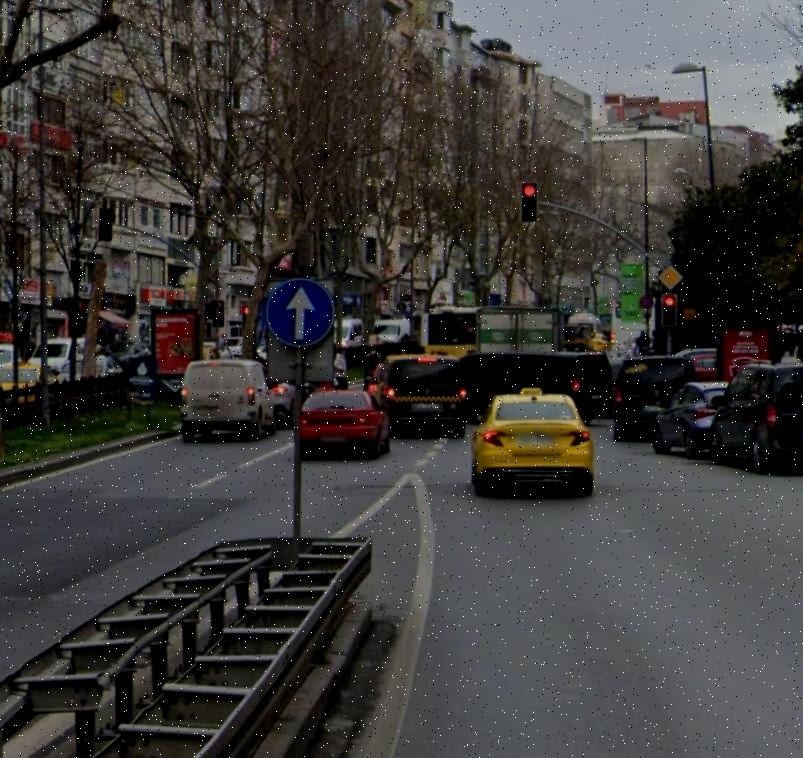forward: (267, 281, 334, 348)
redlight: (520, 180, 536, 221), (661, 292, 678, 326), (239, 300, 252, 327)
